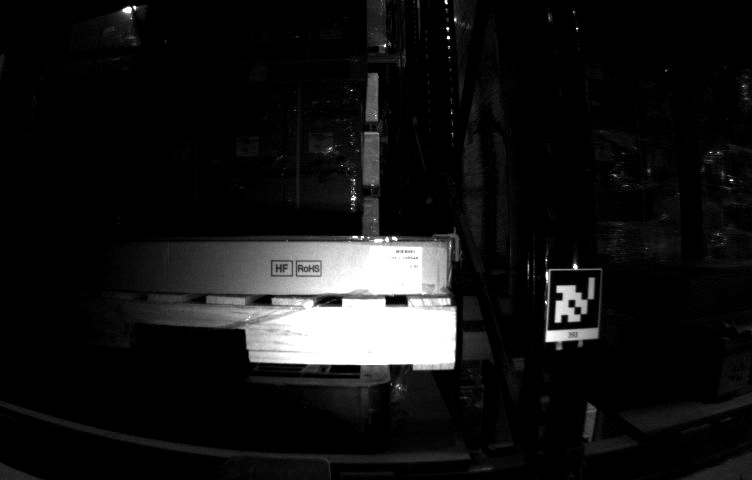True Barcode: (370, 245, 422, 294)
